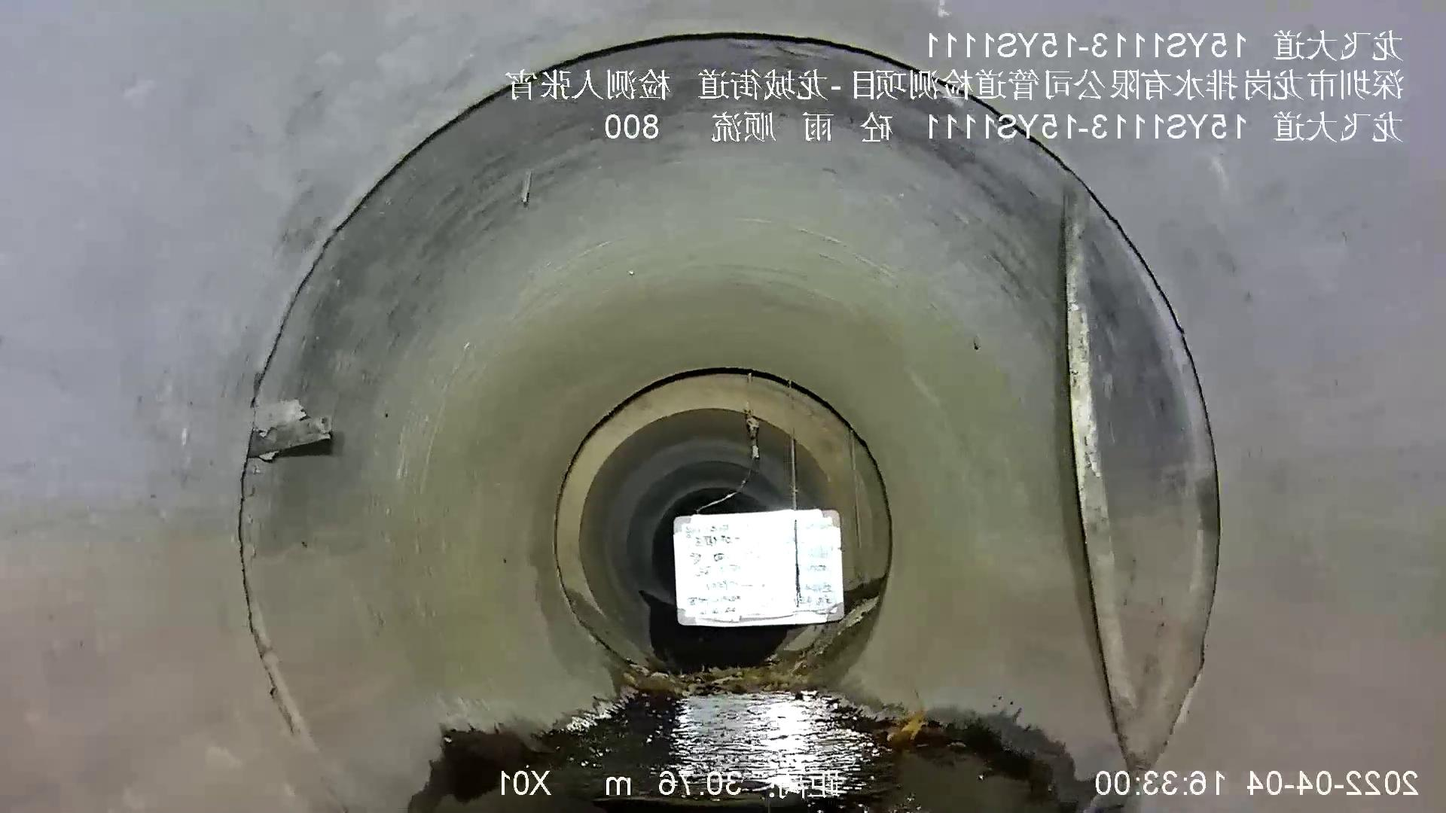YWCR: (1060, 169, 1150, 795)
